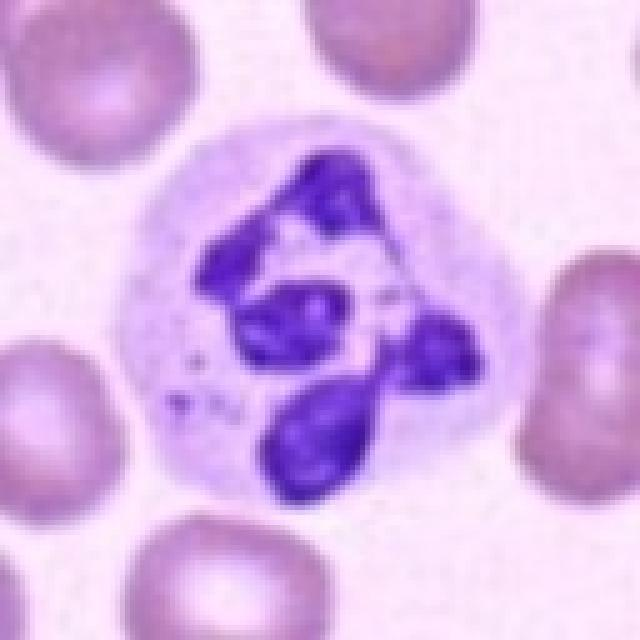neutro: (84, 85, 548, 519)
